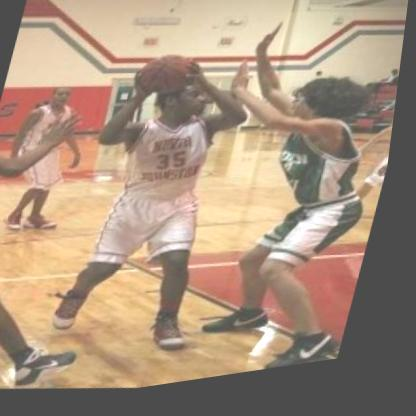basketball: (130, 47, 202, 111)
